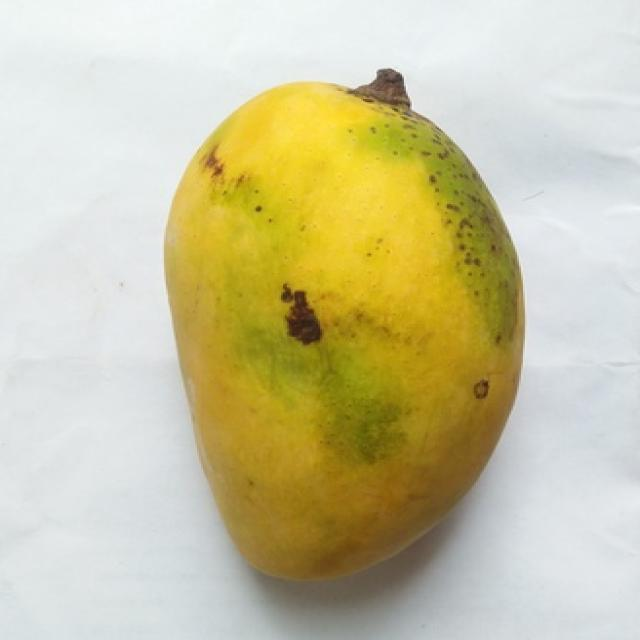Mango: (164, 70, 523, 578)
